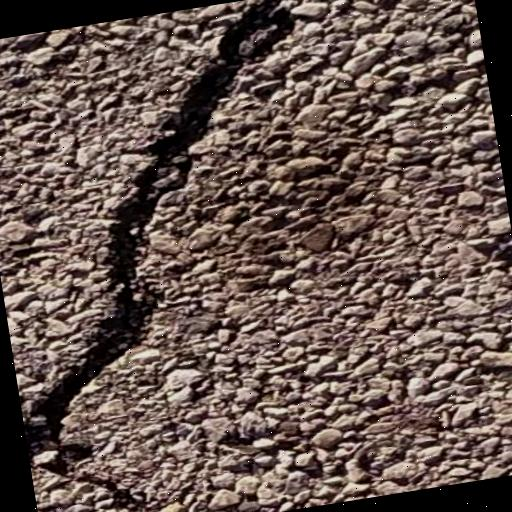spalling: (24, 4, 322, 512)
